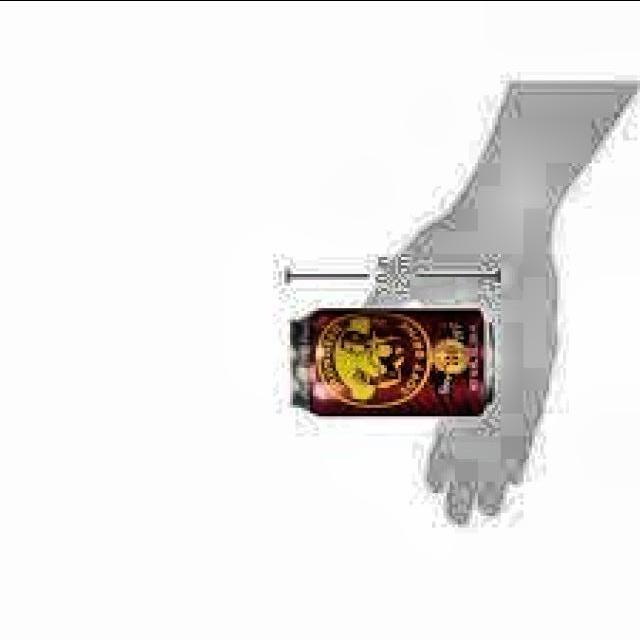litter: (282, 302, 504, 422)
